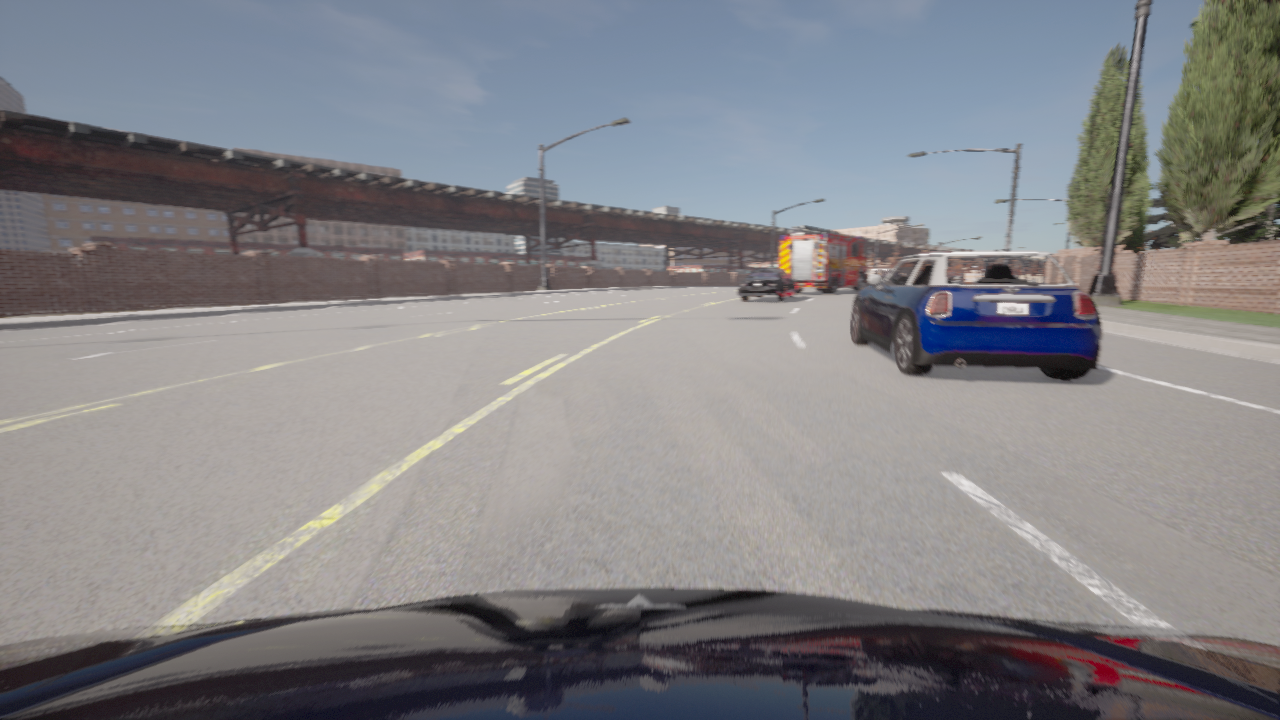cyclist: (0, 588, 1279, 719), (851, 251, 1101, 380), (778, 226, 871, 293), (738, 269, 796, 301), (870, 268, 892, 275), (879, 271, 890, 281)
